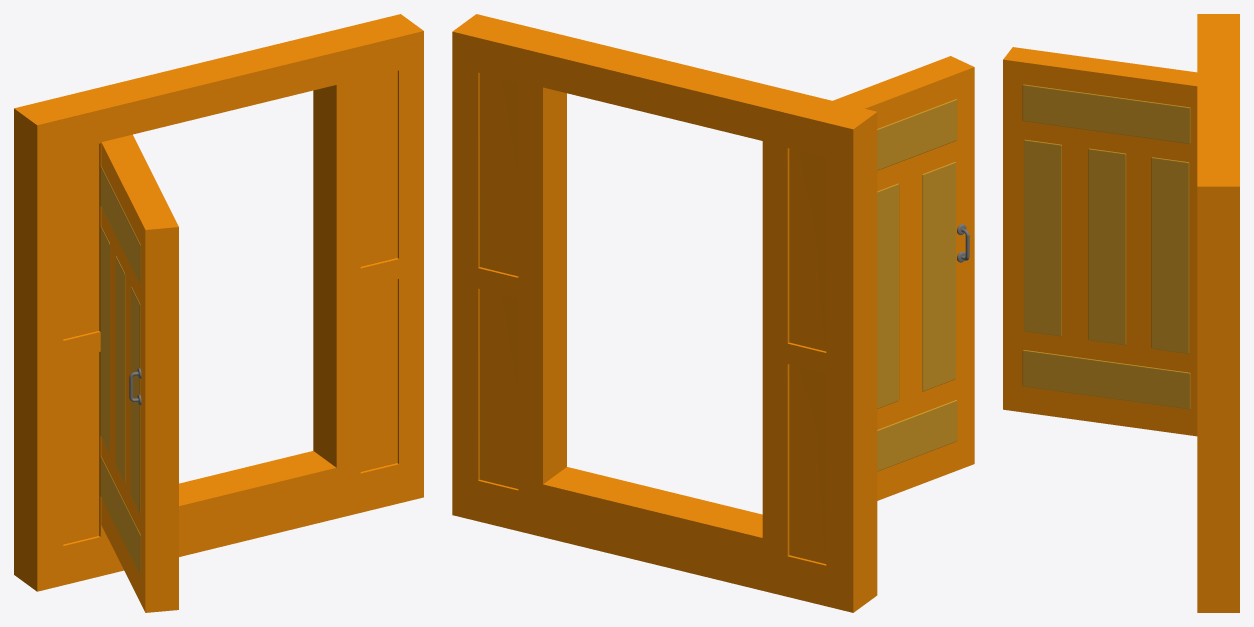
The model's file is haalga_o.glb.
3 views of the same model, side by side, from view 1: azimuth 30°, elevation 25°; view 2: azimuth 150°, elevation 25°; view 3: azimuth 270°, elevation 25° (orthographic). The views are drawn at different scales.
Parts seen in each view (by area): view 1: pasted__pasted__pasted__pasted__polySurface3, polySurface48, polySurface51, polySurface50, polySurface52, polySurface49, polySurface53; view 2: pasted__pasted__pasted__pasted__polySurface3, polySurface48, polySurface50, polySurface51, polySurface49, polySurface53; view 3: polySurface48, pasted__pasted__pasted__pasted__polySurface3, polySurface51, polySurface52, polySurface50, polySurface49, polySurface53.
Boxes of the visible parts, bbox=[...] form: pasted__pasted__pasted__pasted__polySurface3: bbox=[14, 14, 423, 591]; polySurface48: bbox=[101, 134, 178, 612]; polySurface51: bbox=[115, 256, 125, 482]; polySurface50: bbox=[130, 286, 140, 513]; polySurface52: bbox=[100, 226, 109, 452]; polySurface49: bbox=[100, 166, 140, 284]; polySurface53: bbox=[100, 456, 140, 574]; pasted__pasted__pasted__pasted__polySurface3: bbox=[452, 14, 877, 612]; polySurface48: bbox=[833, 56, 974, 500]; polySurface50: bbox=[922, 162, 955, 391]; polySurface51: bbox=[877, 183, 899, 408]; polySurface49: bbox=[877, 99, 957, 170]; polySurface53: bbox=[877, 400, 957, 471]; polySurface48: bbox=[1003, 47, 1197, 436]; pasted__pasted__pasted__pasted__polySurface3: bbox=[1197, 14, 1239, 612]; polySurface51: bbox=[1088, 148, 1126, 345]; polySurface52: bbox=[1151, 157, 1189, 353]; polySurface50: bbox=[1024, 139, 1061, 336]; polySurface49: bbox=[1022, 84, 1190, 143]; polySurface53: bbox=[1022, 350, 1190, 409].
Bounding box in the file's own units: 6.61 × 7.62 × 3.84.
